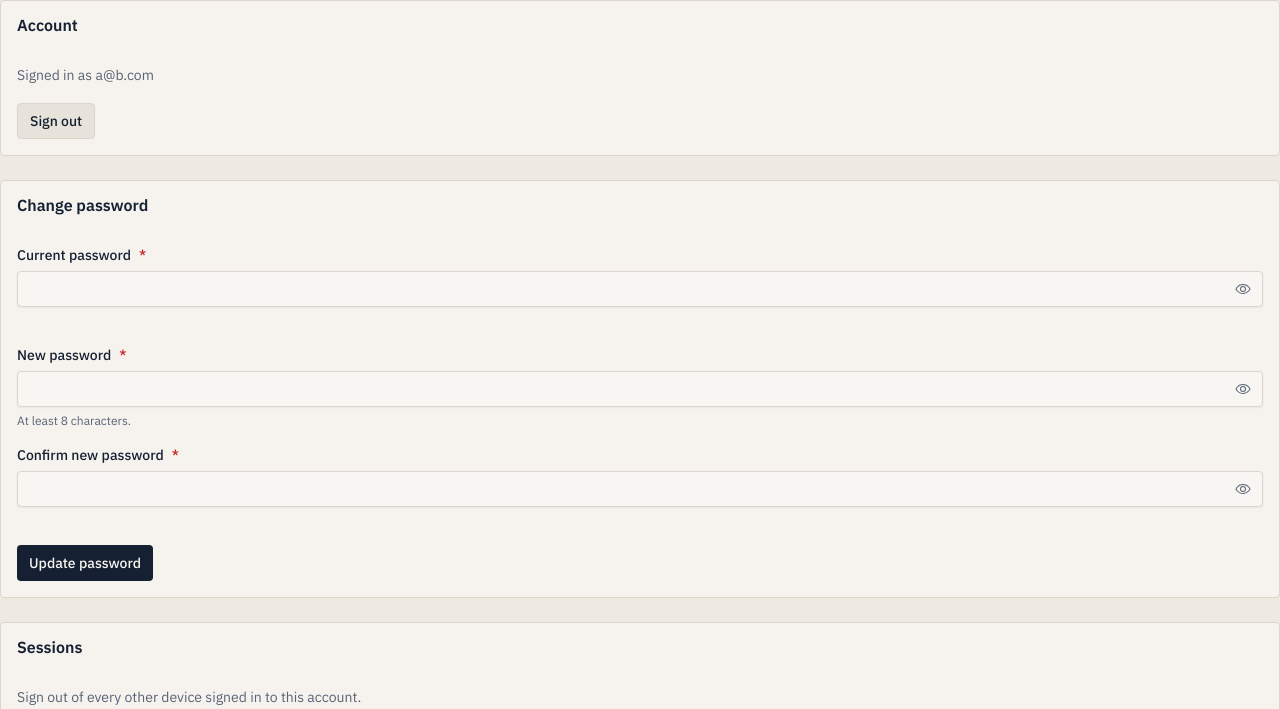
Test: SettingsPanel › sign out › regression: a failed sign-out must surface a Banner — this used to fail completely silently
The width and height of the screenshot is (1280, 709).
Click the button "Sign out" at point(56, 121), box [17,103,95,139]
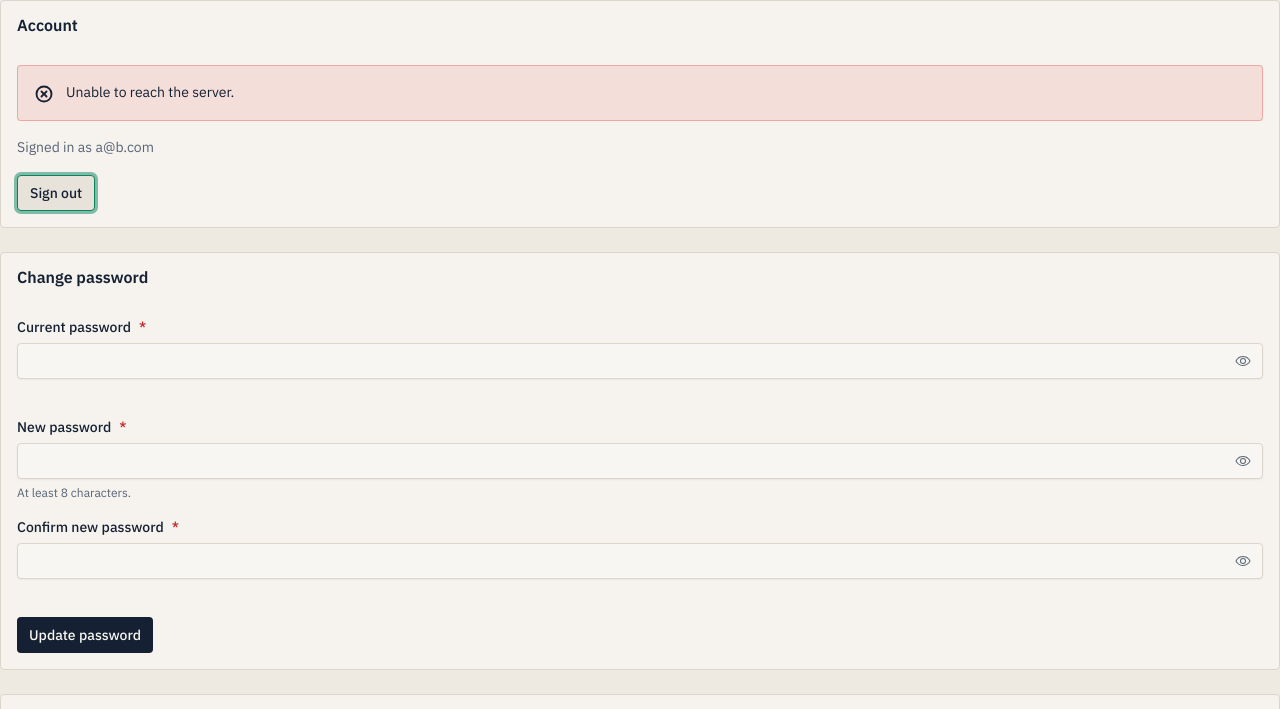
Expected: the message reads "Unable to reach the server.", [66,83,234,101]
